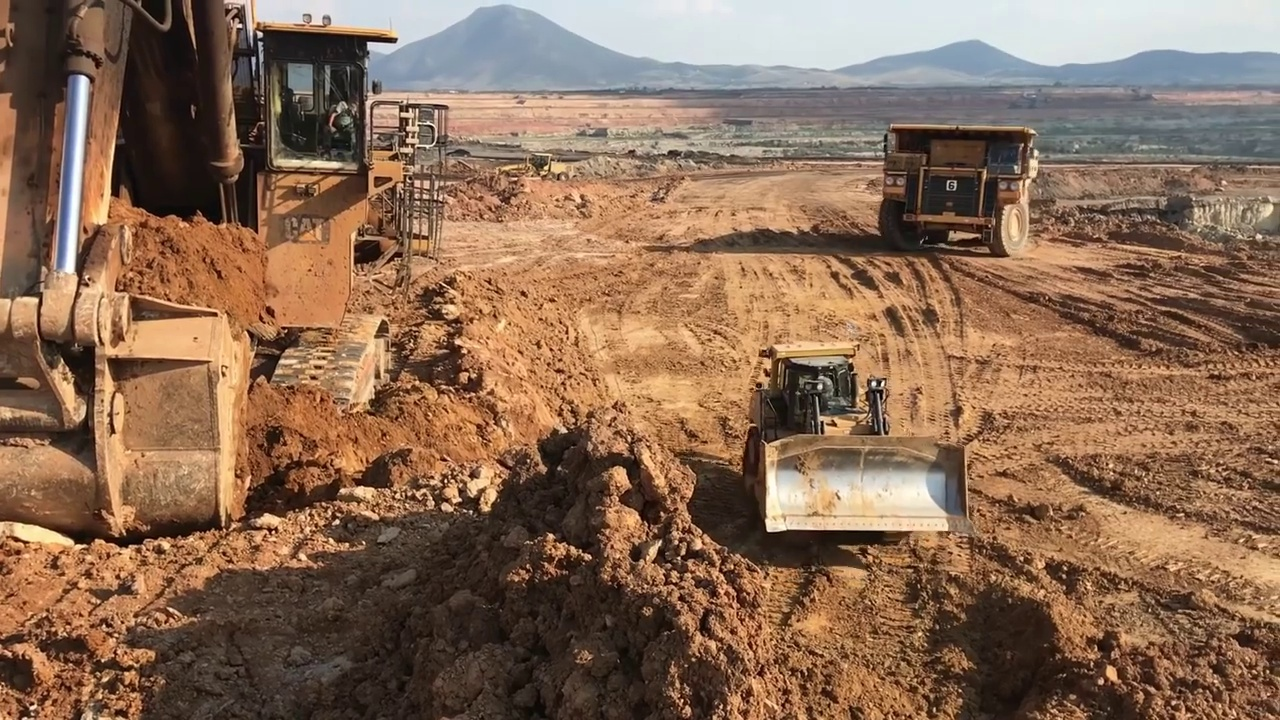bulldozer: (747, 339, 977, 544)
dumper: (880, 120, 1041, 259)
excavator: (1, 3, 445, 525)
